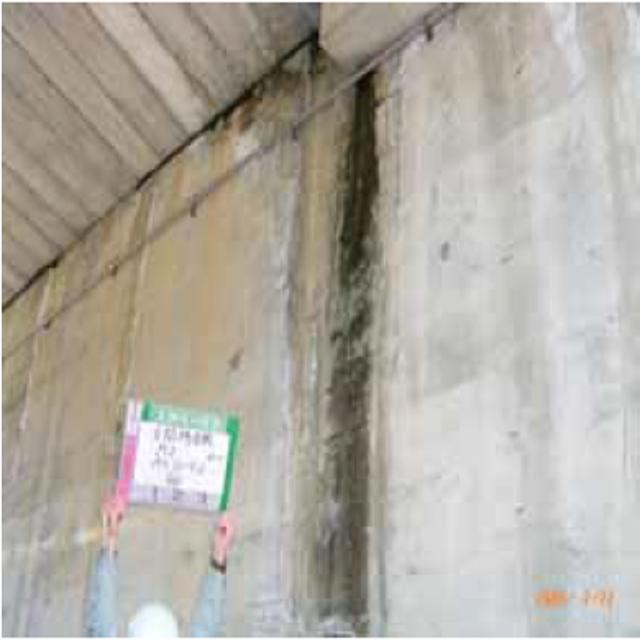leakage: (242, 54, 407, 632)
